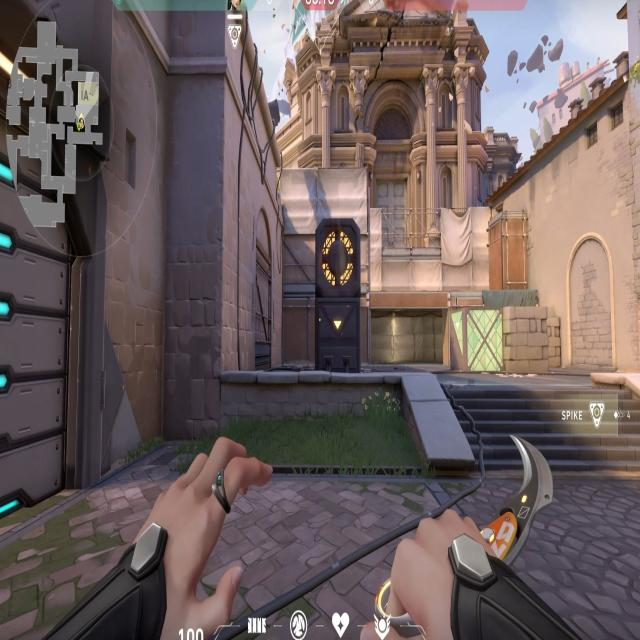A_Door: (0, 2, 100, 518)
A_Heaven_Box: (487, 209, 530, 288)
A_Heaven_Wall: (278, 170, 370, 304)
A_Hell: (372, 288, 458, 371)
A_Site_Box: (445, 305, 552, 385)
